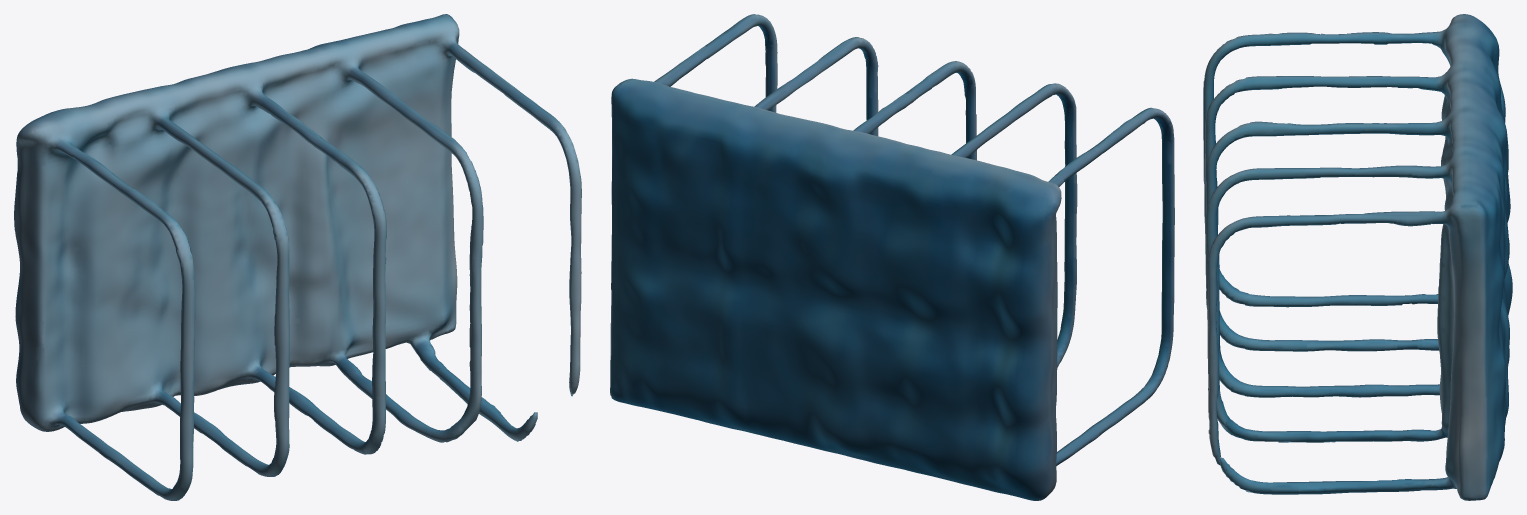
File: sorter.glb
3 renders of one model, left to right at view 1: azimuth 30°, elevation 25°; view 2: azimuth 150°, elevation 25°; view 3: azimuth 270°, elevation 25°, orthographic. The views are drawn at different scales.
Bounding box in the file's own units: 0.9985 × 0.7228 × 0.646.
